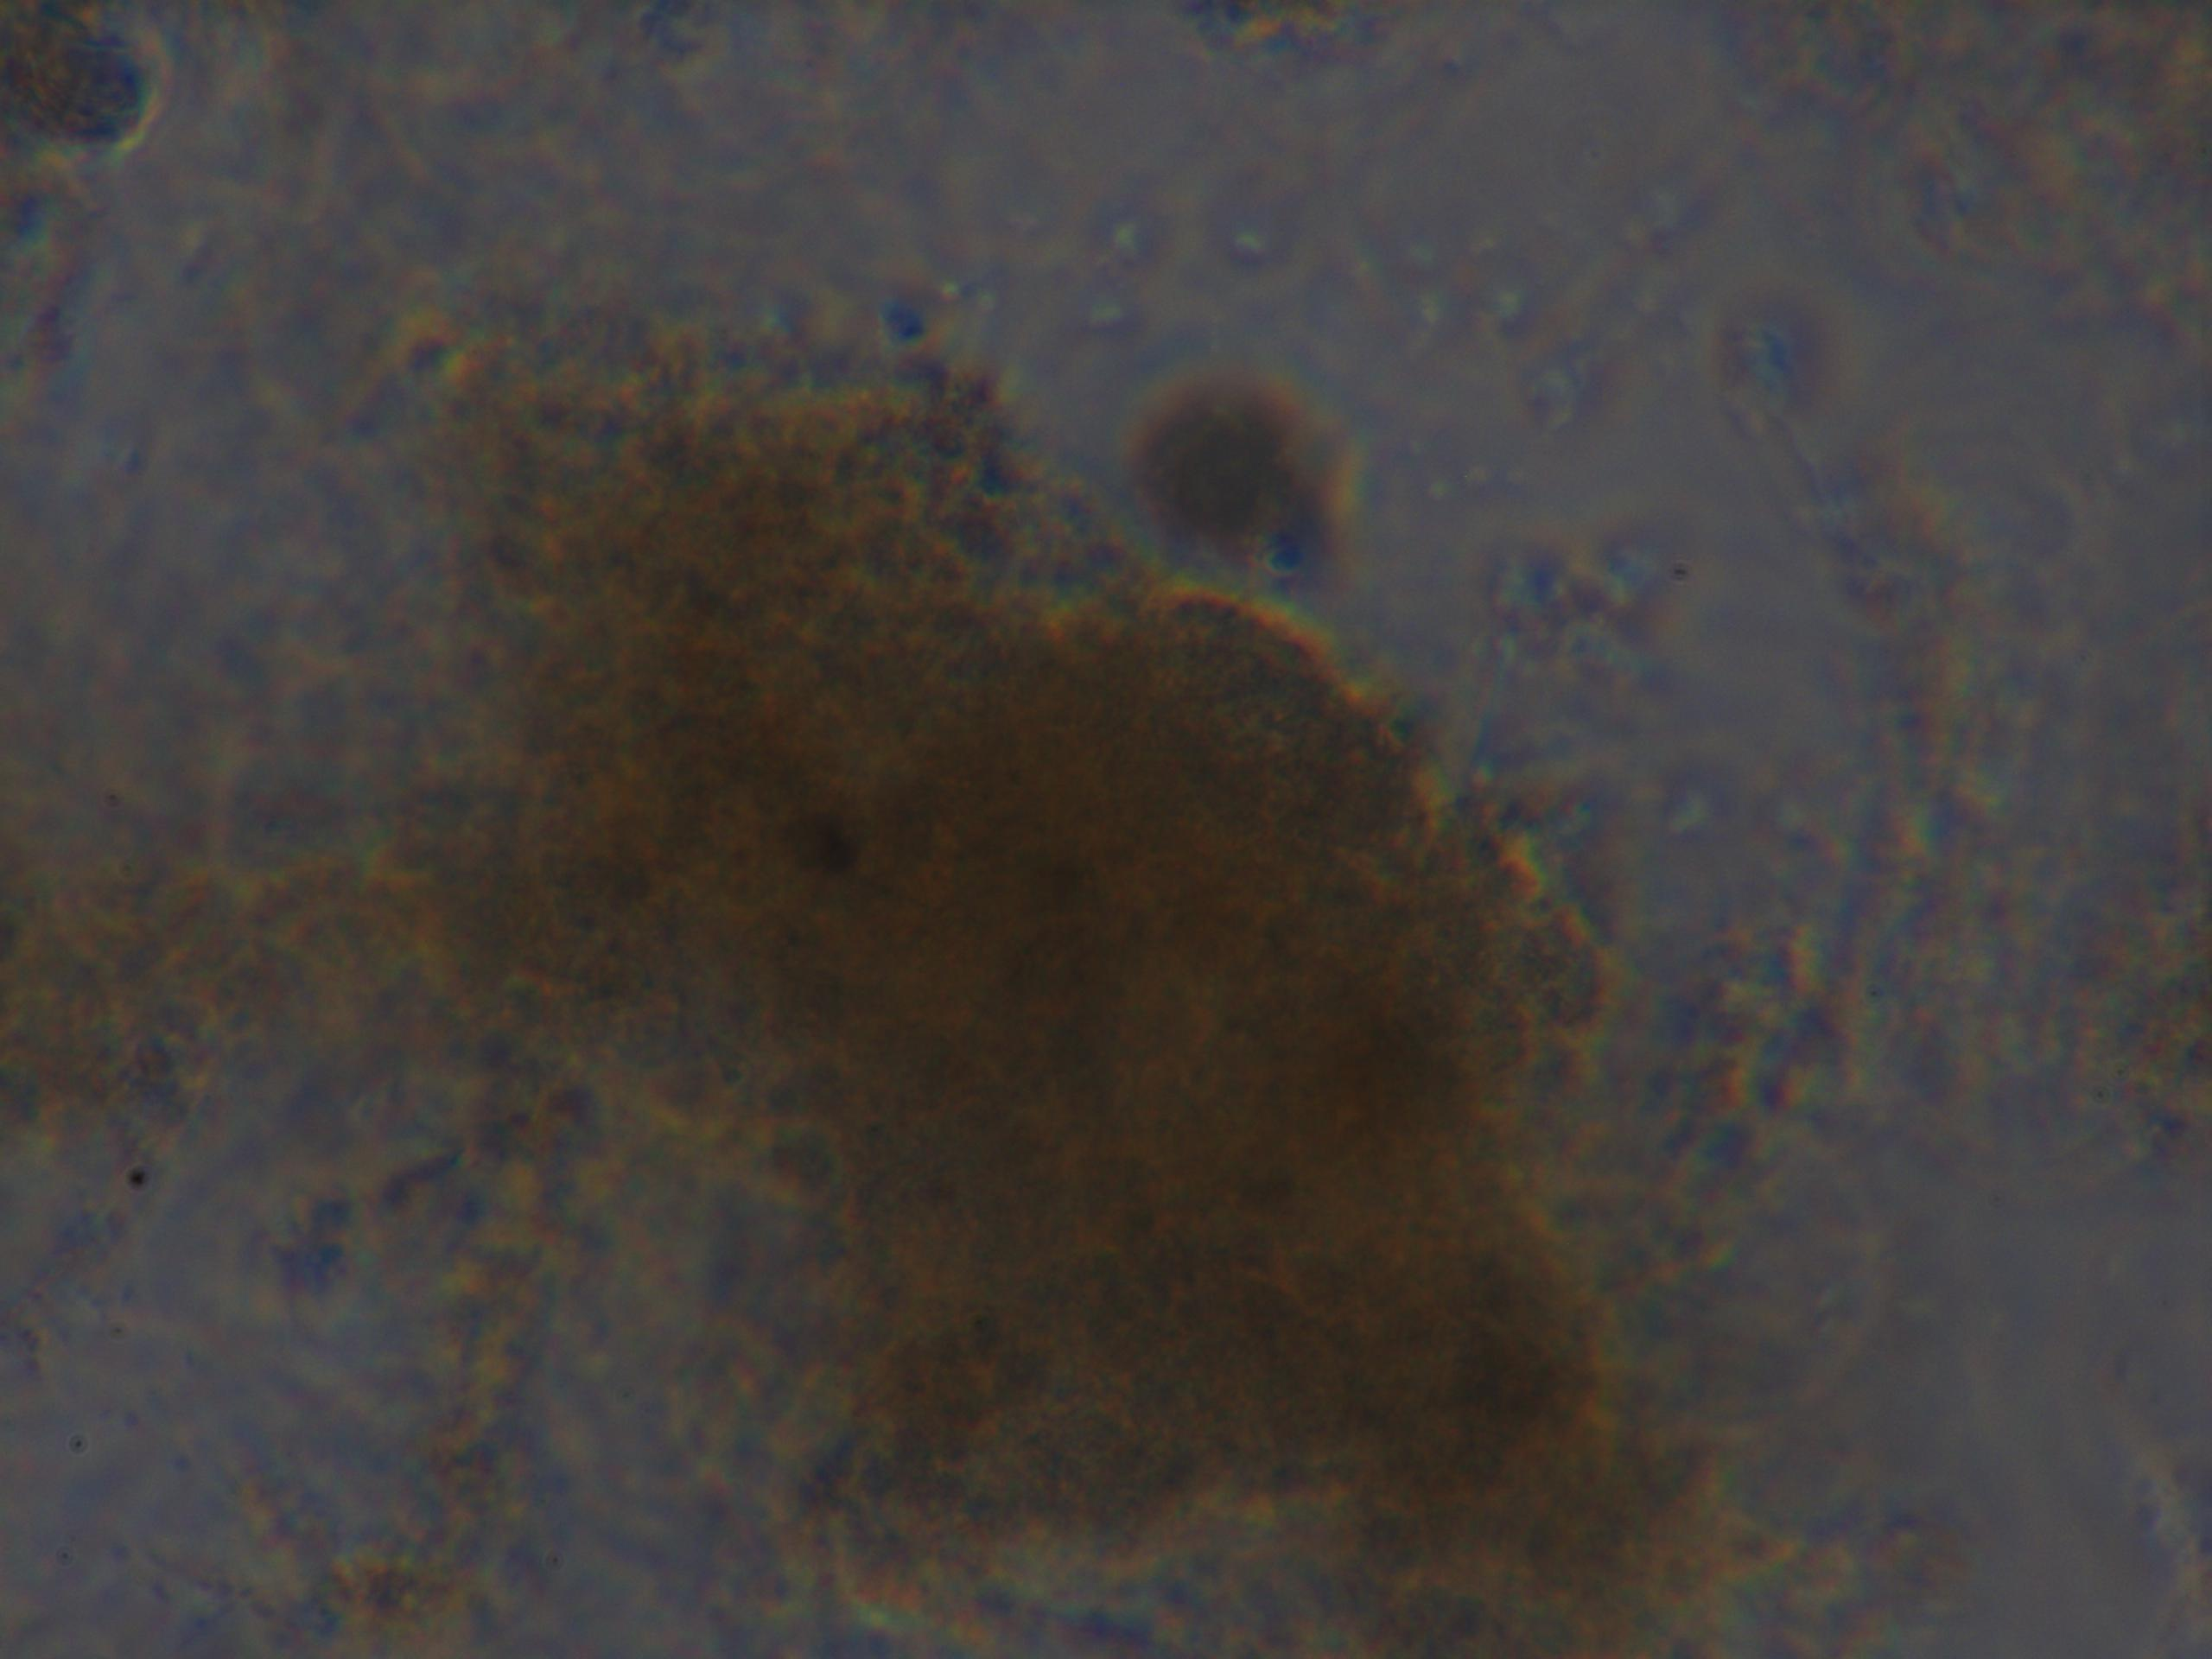spherical_floc: (380, 307, 1733, 1626)
